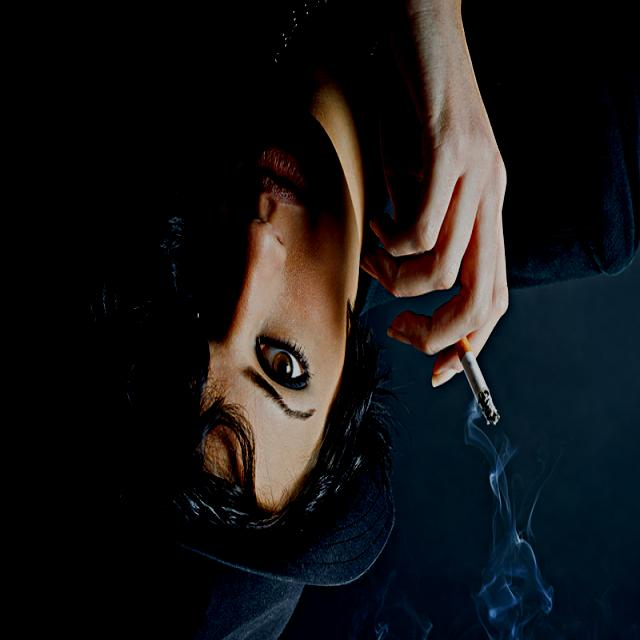cigarette: (459, 338, 503, 436)
